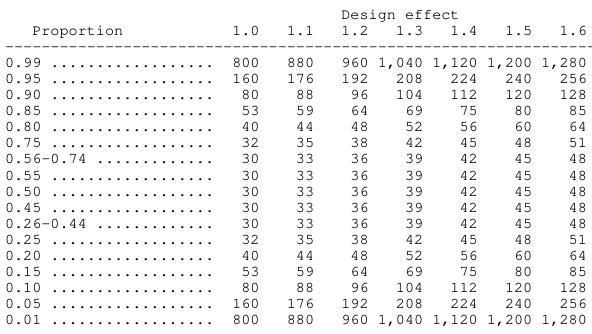table: (3, 3, 585, 327)
table column: (3, 3, 176, 327), (176, 3, 272, 327), (426, 3, 481, 327), (272, 3, 326, 327), (372, 3, 426, 327), (481, 3, 535, 327), (535, 3, 585, 327), (326, 3, 372, 327)
table column header: (3, 3, 585, 45)
table row: (3, 21, 585, 45), (3, 45, 585, 69), (3, 3, 585, 21), (3, 197, 585, 214), (3, 310, 585, 327), (3, 69, 585, 85), (3, 85, 585, 101), (3, 101, 585, 117), (3, 117, 585, 133), (3, 133, 585, 149), (3, 149, 585, 165), (3, 165, 585, 181), (3, 181, 585, 197), (3, 214, 585, 230), (3, 230, 585, 246), (3, 246, 585, 262), (3, 262, 585, 278), (3, 278, 585, 294), (3, 294, 585, 310)
table spanning cell: (176, 3, 585, 21), (3, 3, 176, 45)
